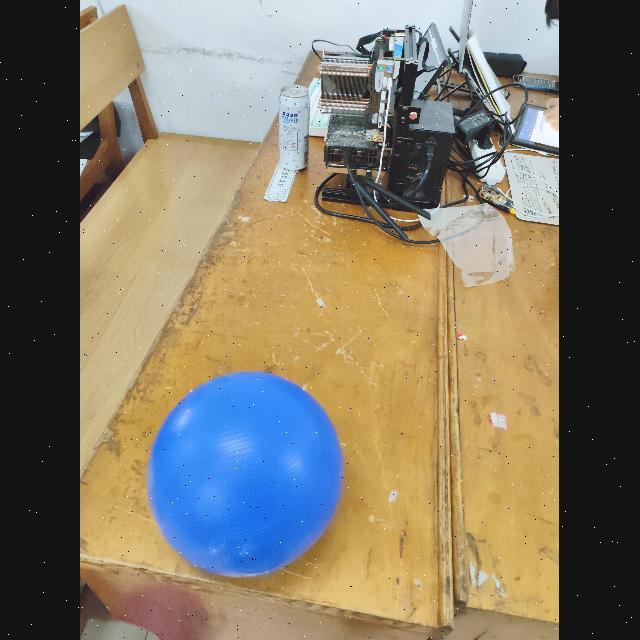B: (145, 372, 347, 576)
